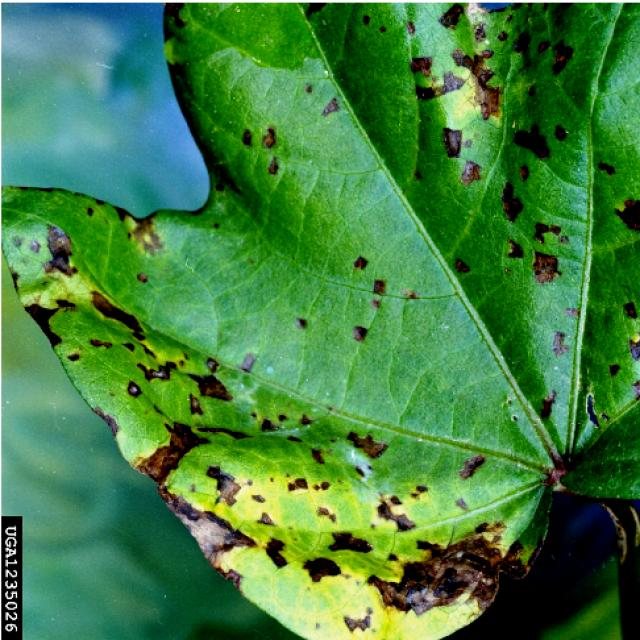Bacterial Blight: (455, 11, 583, 276), (255, 484, 492, 604), (98, 325, 246, 412)
